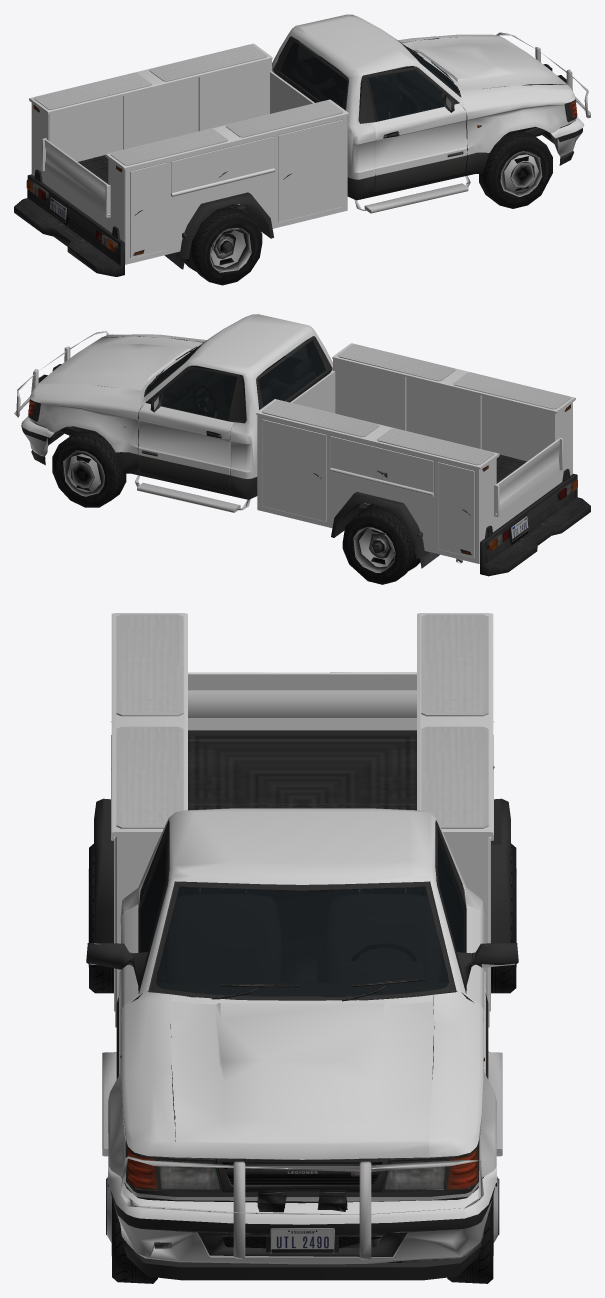
Rendered from car_utility.glb.
The picture shows the model from 3 angles, top to bottom: view 1: azimuth 30°, elevation 25°; view 2: azimuth 150°, elevation 25°; view 3: azimuth 270°, elevation 25°; orthographic projection. The views are drawn at different scales.
Visible parts, largest first — view 1: UTLTRUCK90_Bumper_Front_UTLTRUCK90_Bodymat_0, UTLTRUCK90_bottom_UCB_BOTTOM_0, UTLTRUCK90_WheelStock_FL_RB1c_Tire_1k_0, UTLTRUCK90_Glass_Rear_UCB_Lights_and_Glass_Transperent_0, UTLTRUCK90_Interior_UCB_Interiors_1_0; view 2: UTLTRUCK90_Bumper_Front_UTLTRUCK90_Bodymat_0, UTLTRUCK90_bottom_UCB_BOTTOM_0, UTLTRUCK90_WheelStock_FL_RB1c_Tire_1k_0, UTLTRUCK90_Glass_Rear_UCB_Lights_and_Glass_Transperent_0, UTLTRUCK90_Interior_UCB_Interiors_1_0; view 3: UTLTRUCK90_Bumper_Front_UTLTRUCK90_Bodymat_0, UTLTRUCK90_bottom_UCB_BOTTOM_0, UTLTRUCK90_Glass_Rear_UCB_Lights_and_Glass_Transperent_0, UTLTRUCK90_Interior_UCB_Interiors_1_0, UTLTRUCK90_WheelStock_FL_RB1c_Tire_1k_0, UTLTRUCK90_Headlights_UCB_Lights_and_Glass_0, UTLTRUCK90_Numberplate_Front_Numberplates_Misk_U_0.
Boxes of the visible parts, bbox=[...] form: UTLTRUCK90_Bumper_Front_UTLTRUCK90_Bodymat_0: bbox=[29, 14, 584, 264]; UTLTRUCK90_bottom_UCB_BOTTOM_0: bbox=[14, 32, 590, 276]; UTLTRUCK90_WheelStock_FL_RB1c_Tire_1k_0: bbox=[184, 130, 552, 285]; UTLTRUCK90_Glass_Rear_UCB_Lights_and_Glass_Transperent_0: bbox=[26, 39, 577, 251]; UTLTRUCK90_Interior_UCB_Interiors_1_0: bbox=[274, 36, 457, 123]; UTLTRUCK90_Bumper_Front_UTLTRUCK90_Bodymat_0: bbox=[21, 314, 575, 563]; UTLTRUCK90_bottom_UCB_BOTTOM_0: bbox=[14, 331, 590, 576]; UTLTRUCK90_WheelStock_FL_RB1c_Tire_1k_0: bbox=[52, 431, 420, 584]; UTLTRUCK90_Glass_Rear_UCB_Lights_and_Glass_Transperent_0: bbox=[28, 338, 577, 550]; UTLTRUCK90_Interior_UCB_Interiors_1_0: bbox=[148, 336, 325, 423]; UTLTRUCK90_Bumper_Front_UTLTRUCK90_Bodymat_0: bbox=[107, 613, 497, 1224]; UTLTRUCK90_bottom_UCB_BOTTOM_0: bbox=[86, 614, 518, 1280]; UTLTRUCK90_Glass_Rear_UCB_Lights_and_Glass_Transperent_0: bbox=[126, 835, 478, 1191]; UTLTRUCK90_Interior_UCB_Interiors_1_0: bbox=[141, 841, 463, 1000]; UTLTRUCK90_WheelStock_FL_RB1c_Tire_1k_0: bbox=[88, 843, 516, 1283]; UTLTRUCK90_Headlights_UCB_Lights_and_Glass_0: bbox=[128, 1149, 476, 1189]; UTLTRUCK90_Numberplate_Front_Numberplates_Misk_U_0: bbox=[270, 1228, 334, 1253].
Bounding box in the file's own units: 5.37 × 1.65 × 2.
8 materials, 7 textured.
